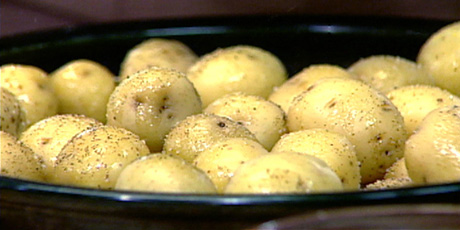boiled potatoes: (5, 66, 458, 189)
